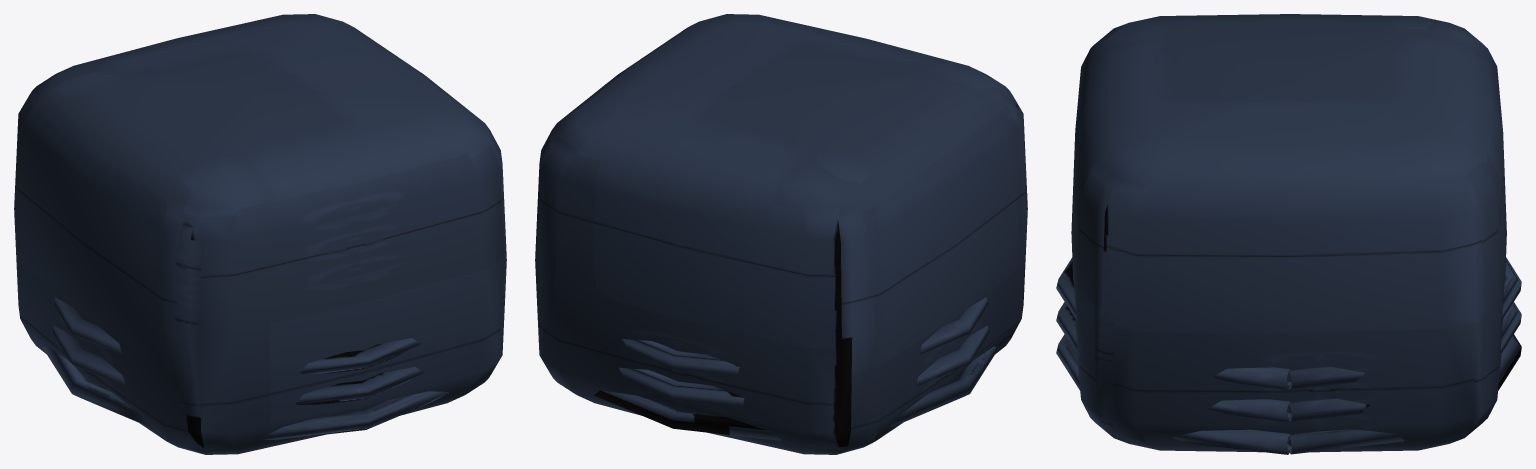
Rendered from Albatros_MangaIzq.fbx.
3 renders of one model, left to right at view 1: azimuth 30°, elevation 25°; view 2: azimuth 150°, elevation 25°; view 3: azimuth 270°, elevation 25°, orthographic. The views are drawn at different scales.
Visible parts, largest first — view 1: Albatros_MangaIzq; view 2: Albatros_MangaIzq; view 3: Albatros_MangaIzq.
Boxes of the visible parts, x1,y1,x2,y2 form: Albatros_MangaIzq: (14, 14, 506, 454); Albatros_MangaIzq: (535, 14, 1027, 454); Albatros_MangaIzq: (1056, 14, 1521, 454).
Size of the model in its own units: 1.63 by 1.19 by 1.63.
